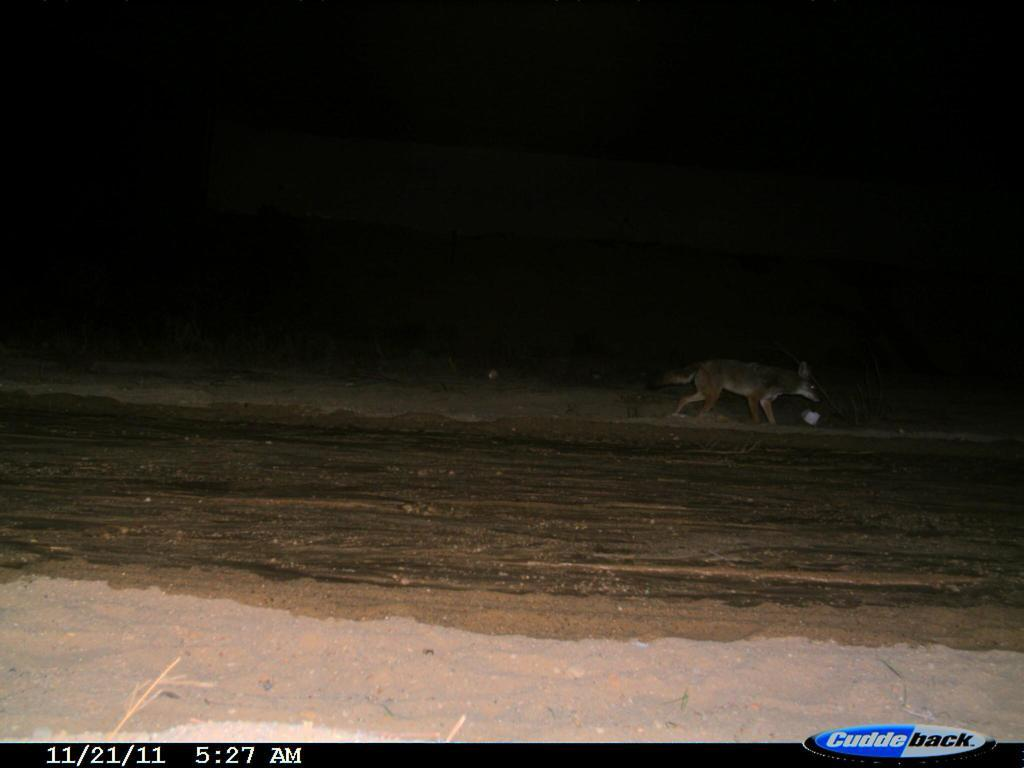coyote: (647, 353, 829, 427)
